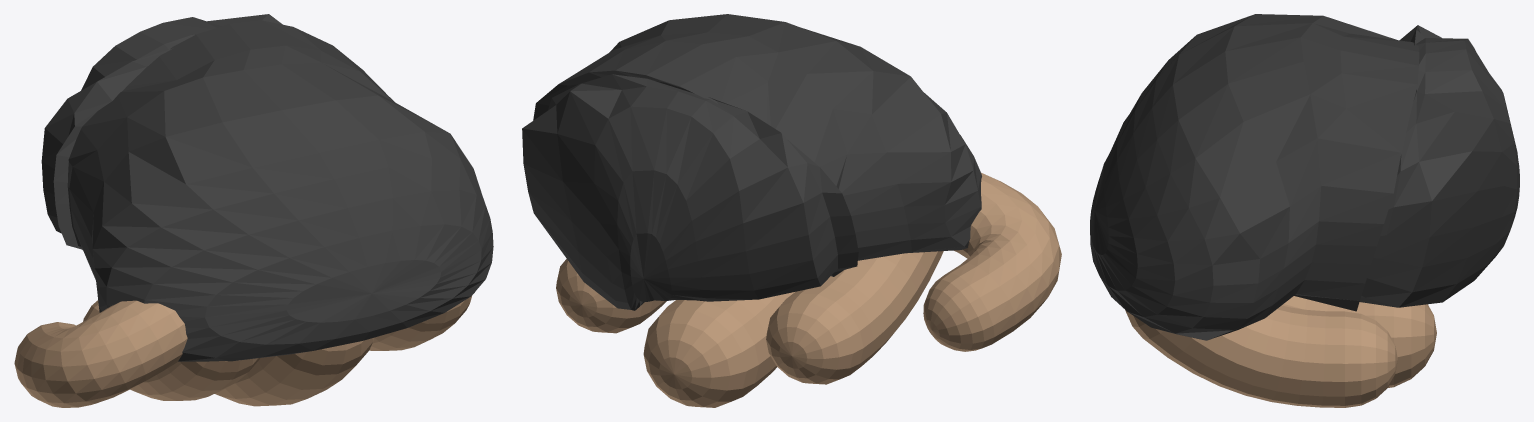
File: foot_primate.glb
3 views of the same model, side by side, from view 1: azimuth 30°, elevation 25°; view 2: azimuth 150°, elevation 25°; view 3: azimuth 270°, elevation 25° (orthographic). The views are drawn at different scales.
Parts seen in each view (by area): view 1: foot_primate_fur, foot_primate_claws; view 2: foot_primate_fur, foot_primate_claws; view 3: foot_primate_fur, foot_primate_claws.
Part boxes in pixels (x1,y1,x2,y2): foot_primate_fur: [41, 14, 493, 361]; foot_primate_claws: [14, 295, 472, 407]; foot_primate_fur: [522, 14, 981, 310]; foot_primate_claws: [556, 172, 1061, 407]; foot_primate_fur: [1090, 14, 1519, 340]; foot_primate_claws: [1125, 296, 1436, 407].
Bounding box in the file's own units: 1.76 × 1.26 × 1.43.
